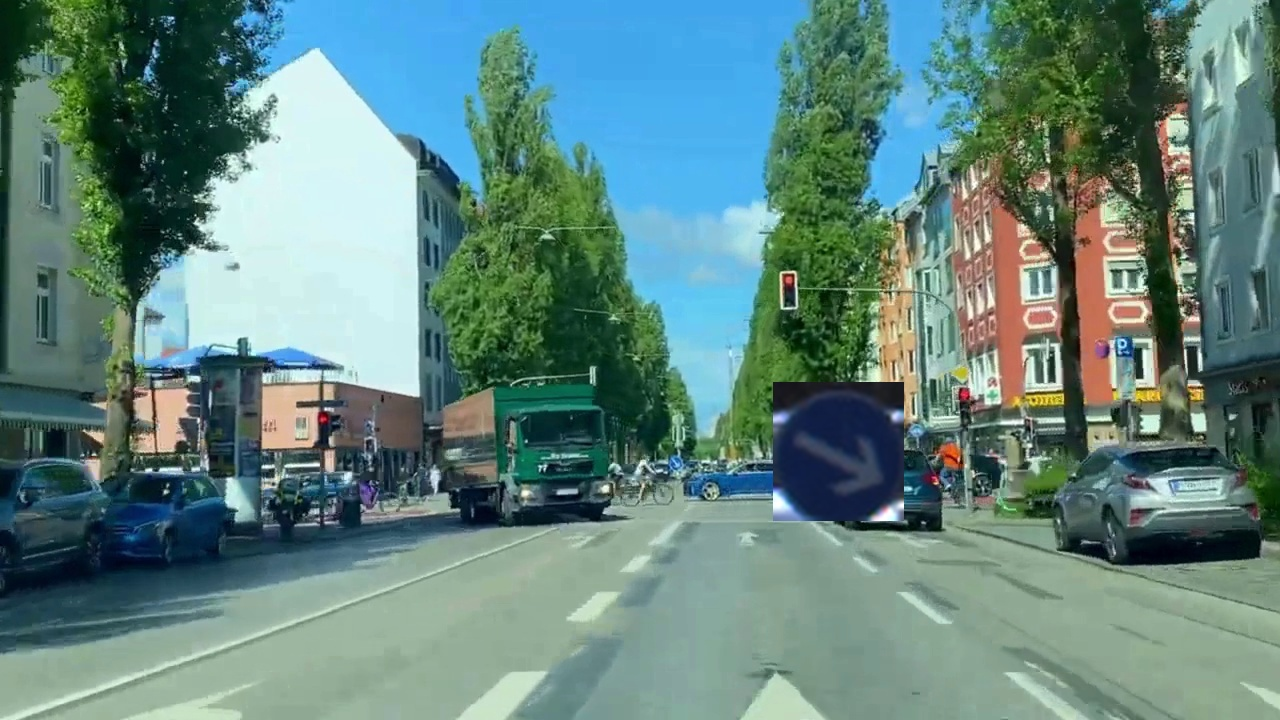Keep right: (773, 382, 904, 521)
